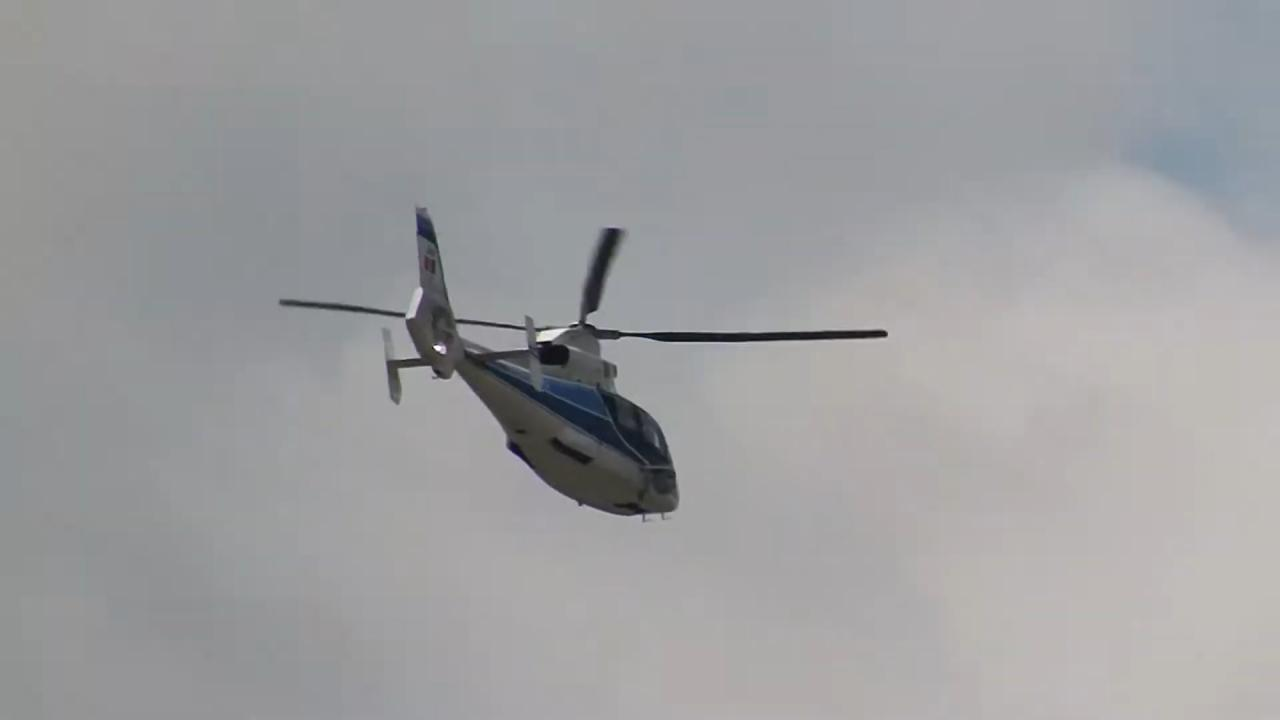Helicopter: (268, 194, 906, 537)
